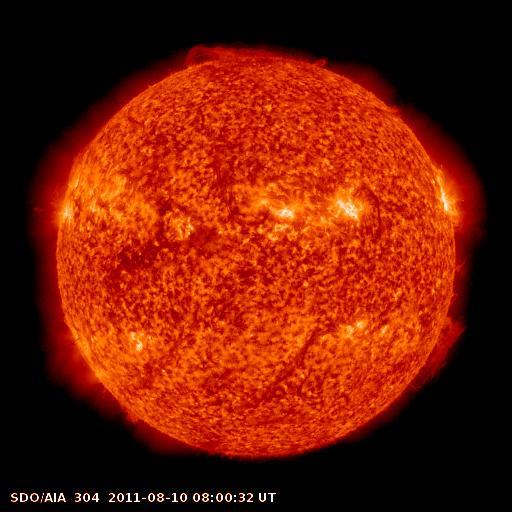prominence: (173, 36, 339, 76), (407, 309, 475, 394), (114, 399, 152, 431)
